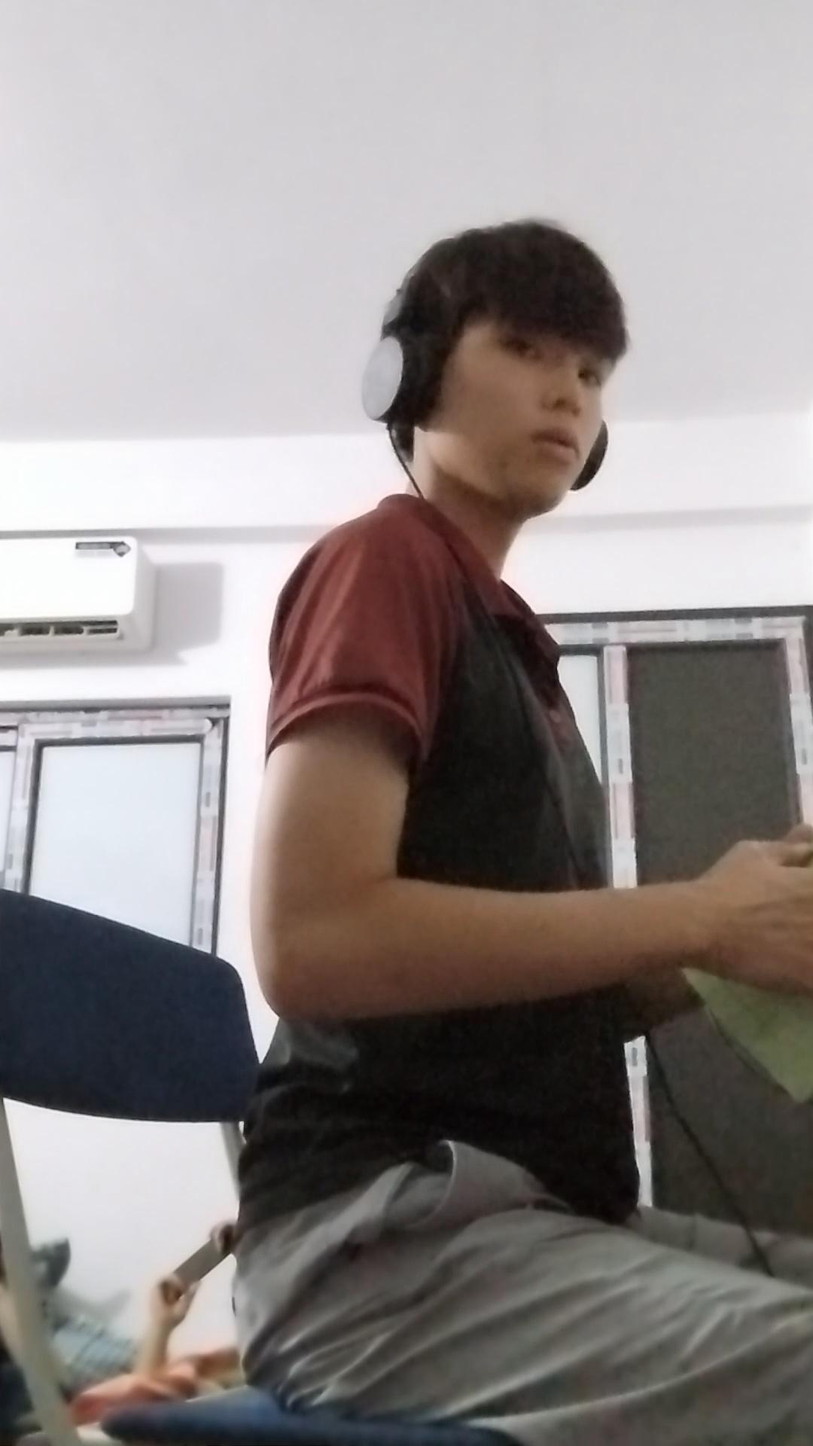GoodPosture: (234, 220, 812, 1445)
